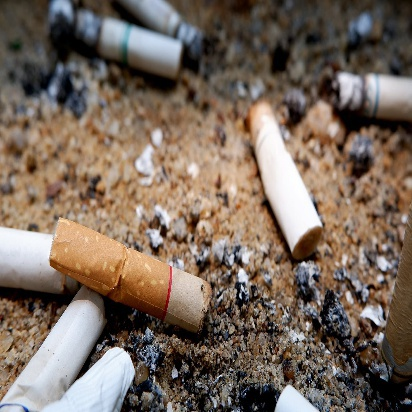cigarette: (47, 209, 219, 338), (244, 96, 327, 265), (38, 1, 187, 84), (328, 67, 412, 126), (1, 223, 67, 293)
